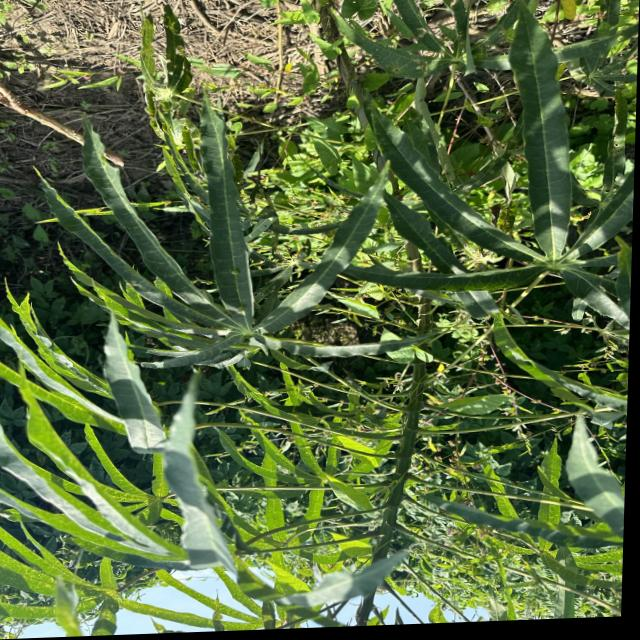Mosca: (227, 262, 243, 286)
